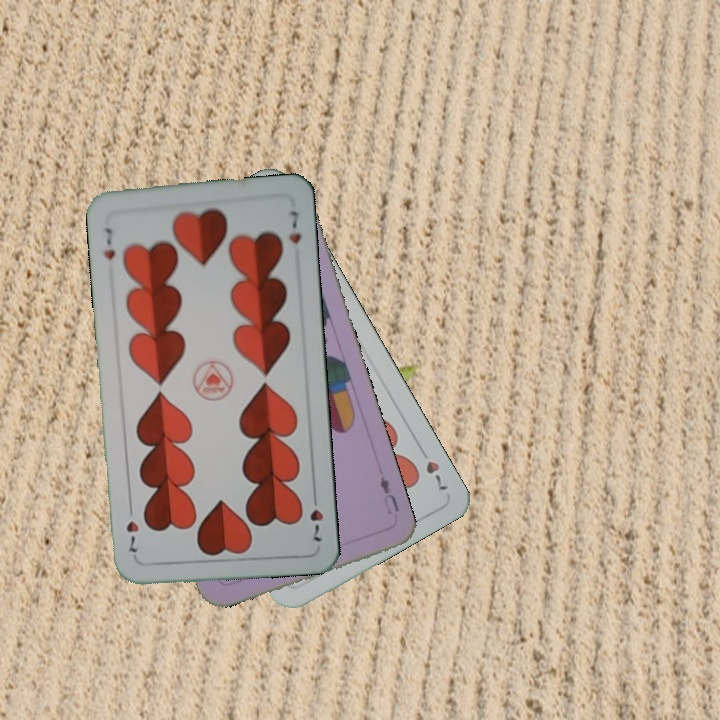EU: (375, 472, 402, 515)
H7: (414, 442, 450, 493), (306, 488, 326, 544), (100, 223, 118, 263)
